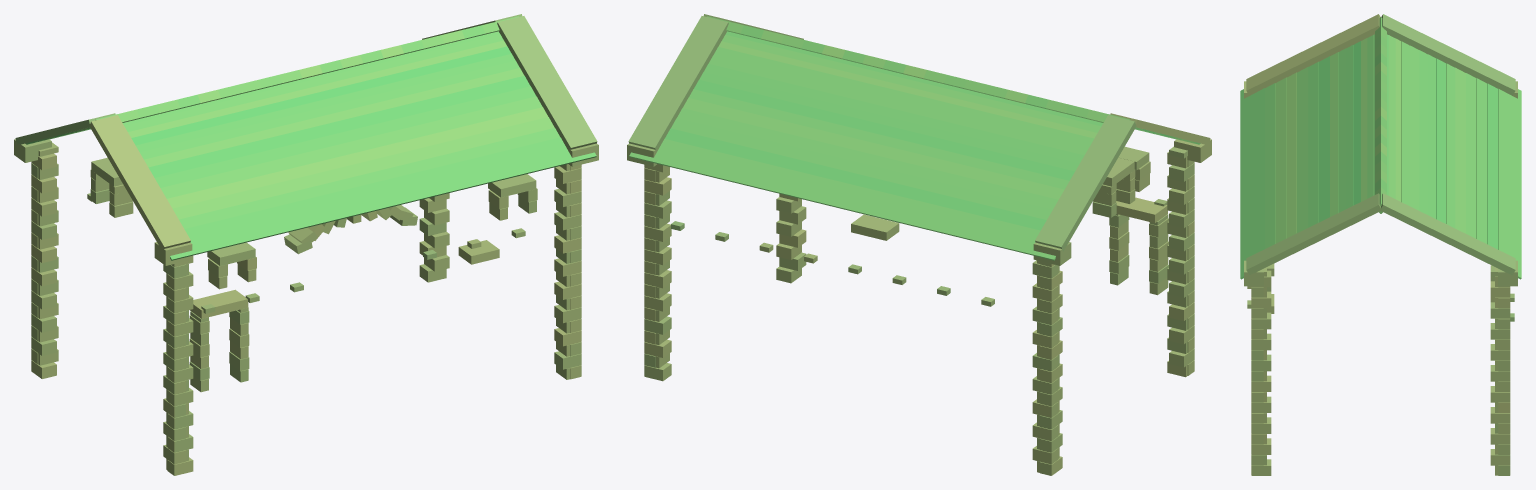
The model's file is SM_Bld_009_Stone.glb.
The picture shows the model from 3 angles, left to right: view 1: azimuth 30°, elevation 25°; view 2: azimuth 150°, elevation 25°; view 3: azimuth 270°, elevation 25°; orthographic projection. The views are drawn at different scales.
Parts seen in each view (by area): view 1: SM_Bld_009_Stone; view 2: SM_Bld_009_Stone; view 3: SM_Bld_009_Stone.
Boxes of the visible parts, x1,y1,x2,y2 form: SM_Bld_009_Stone: (14,14,598,475); SM_Bld_009_Stone: (627,14,1211,475); SM_Bld_009_Stone: (1240,14,1521,475).
Bounding box in the file's own units: 11.72 × 7.92 × 7.3.
